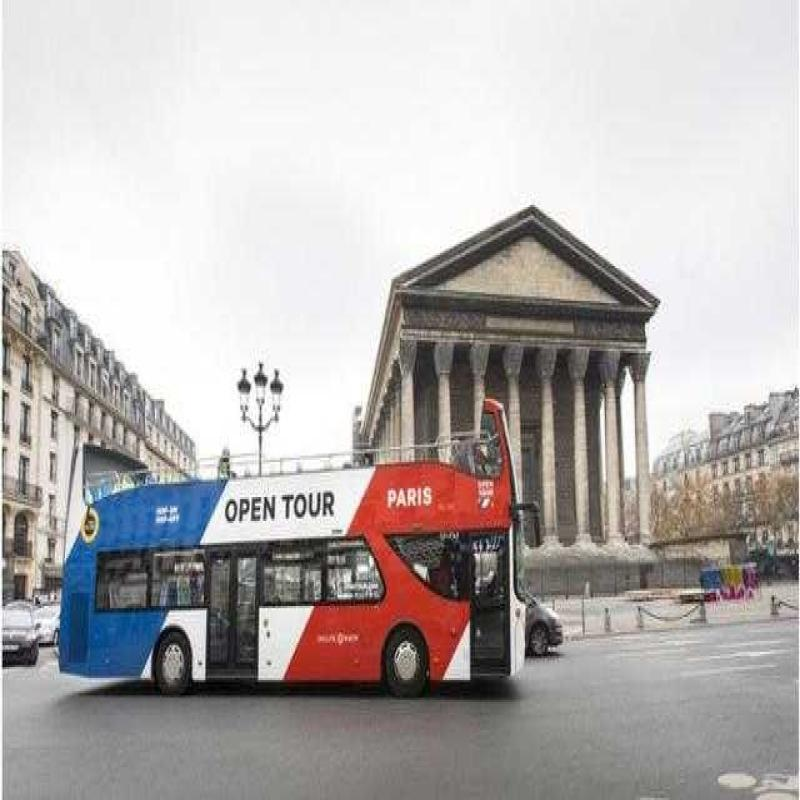bus: (35, 438, 544, 740)
